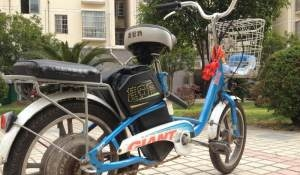电动车: (2, 1, 264, 174)
